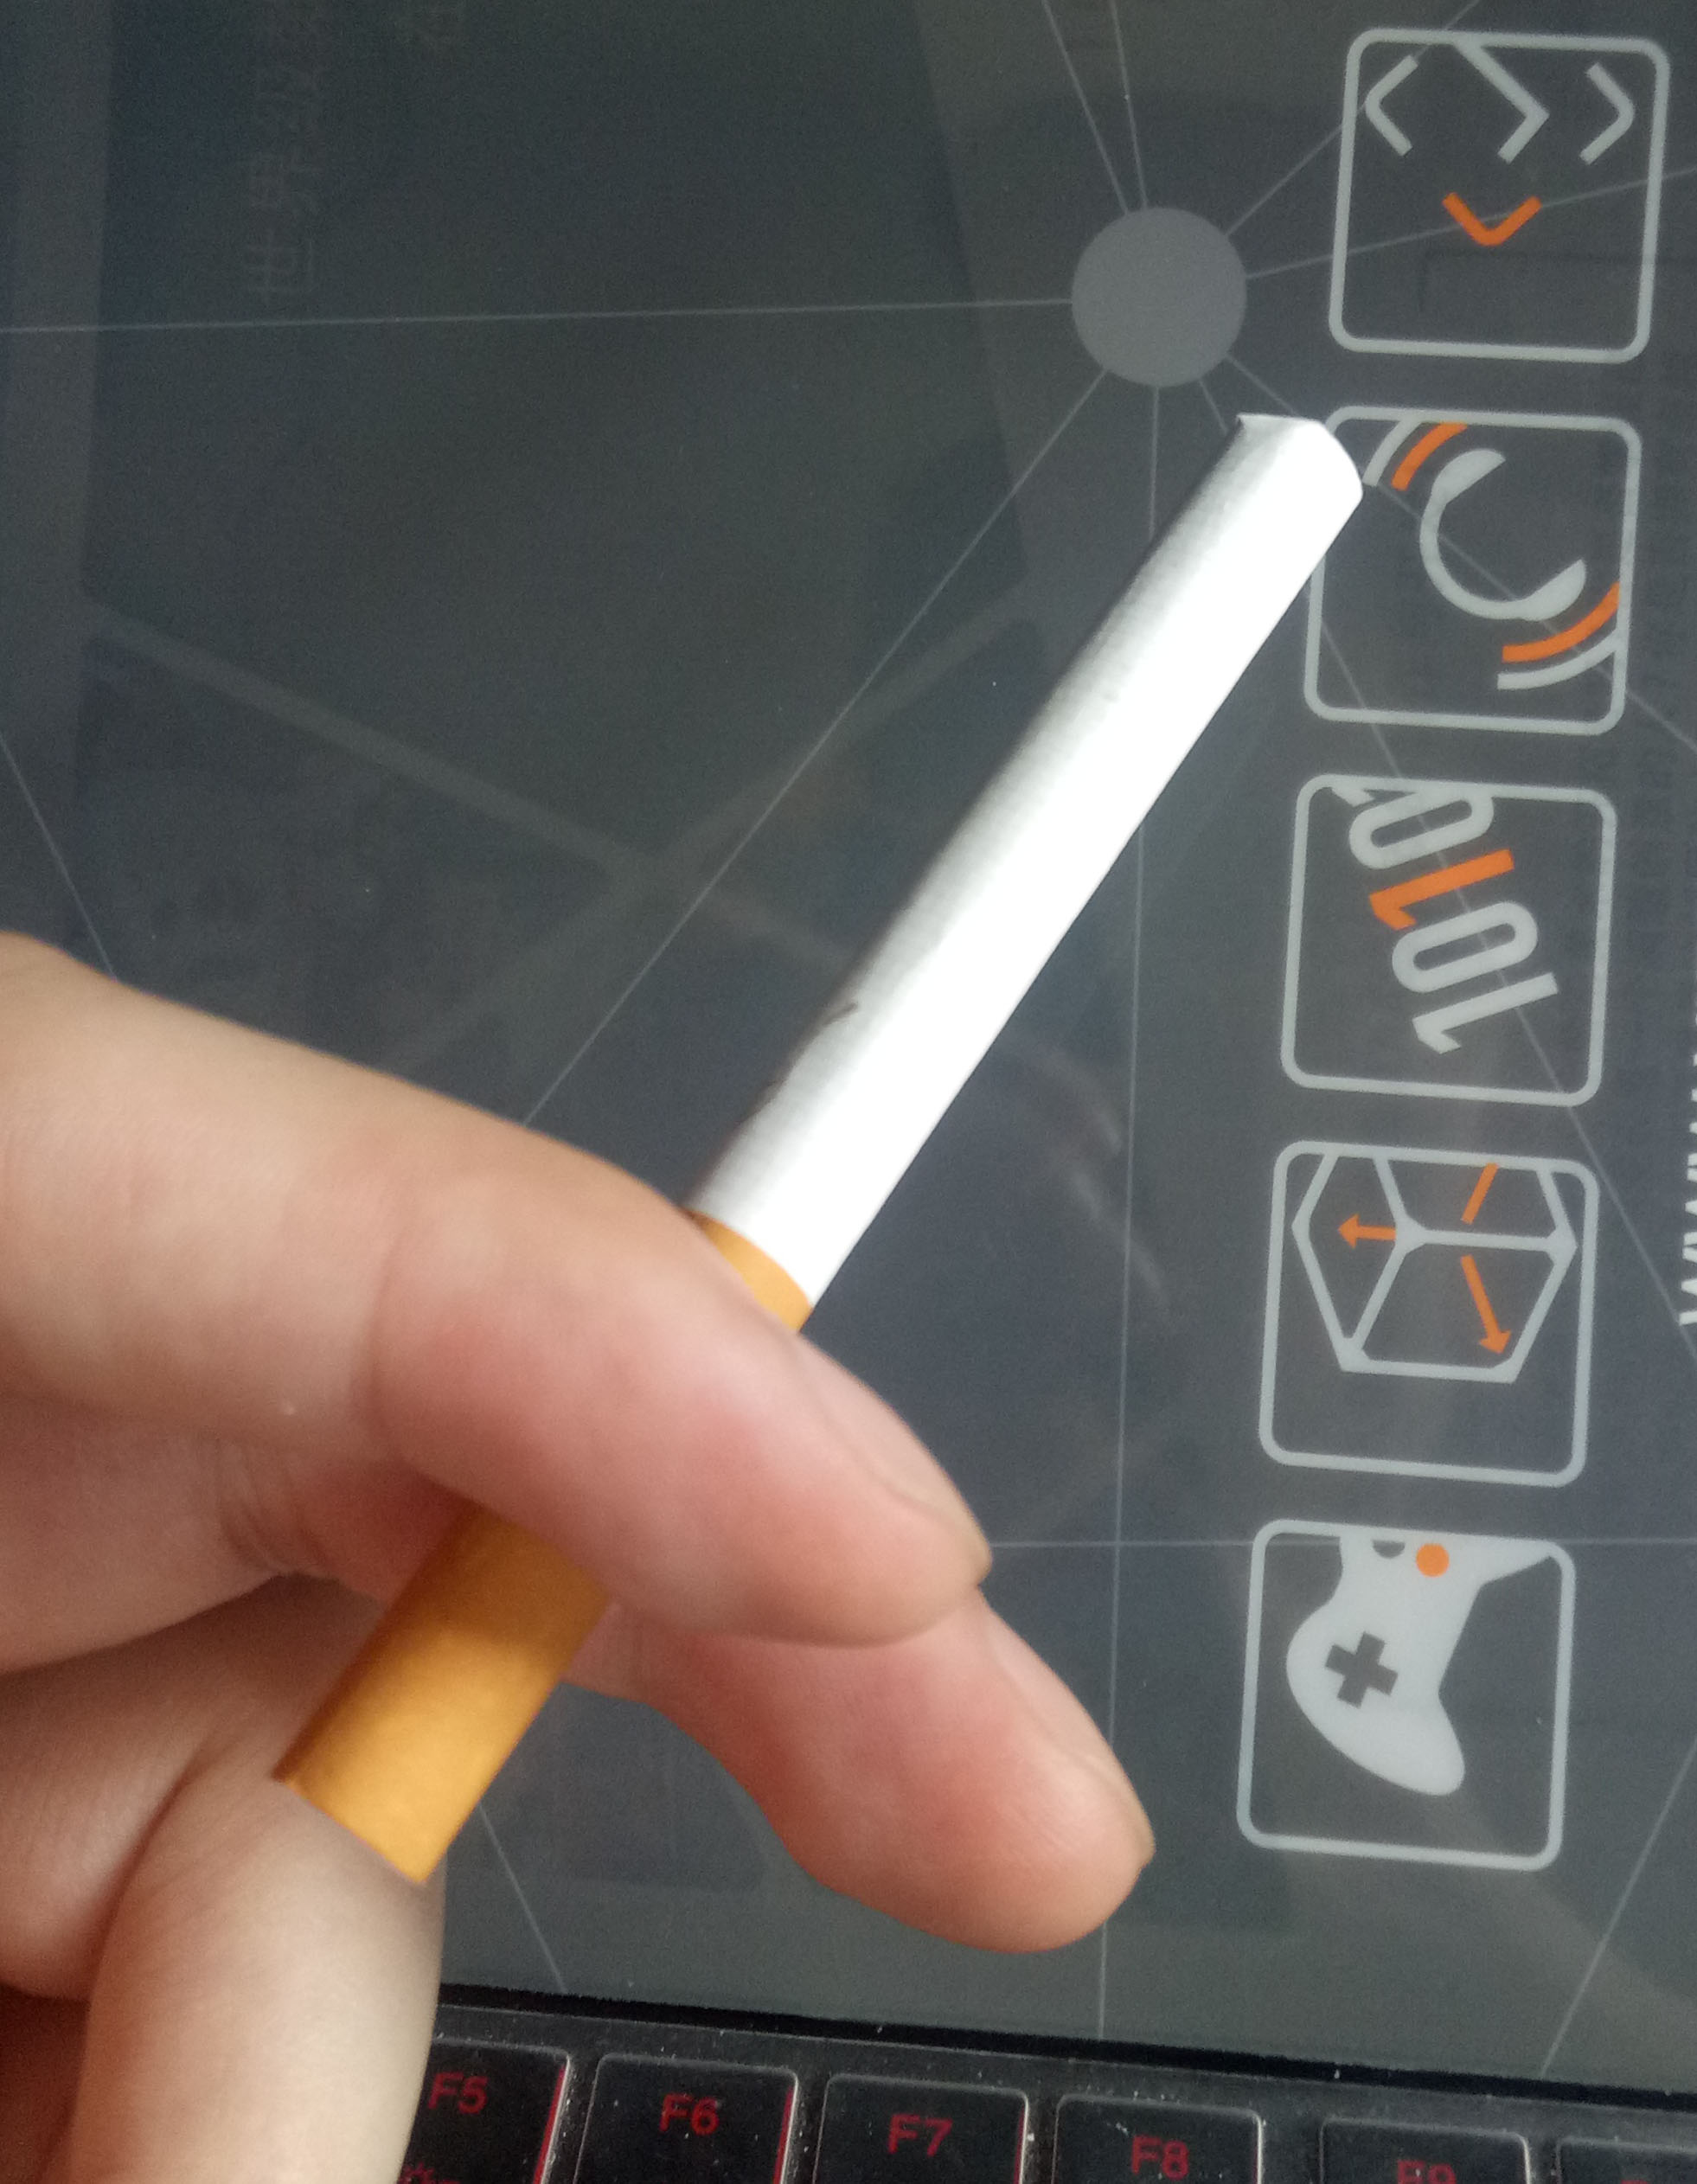cigarette: (234, 353, 1413, 1916)
